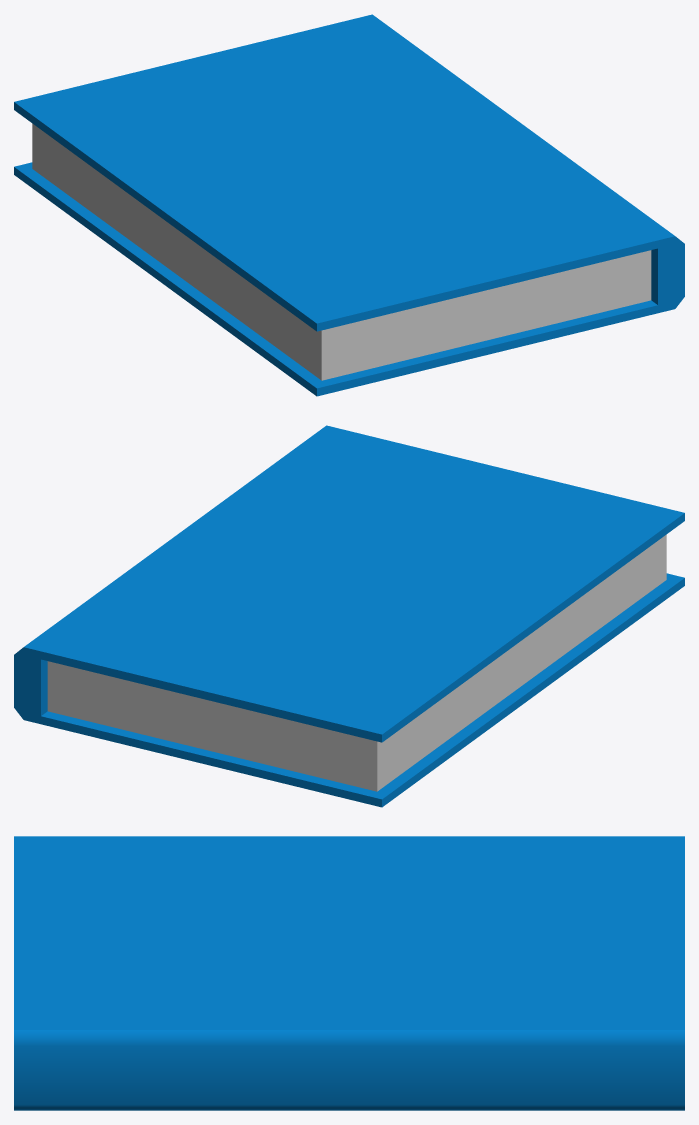
The model's file is Book_Cyan_Blue.fbx.
3 views of the same model, one above another, from view 1: azimuth 30°, elevation 25°; view 2: azimuth 150°, elevation 25°; view 3: azimuth 270°, elevation 25° (orthographic). The views are drawn at different scales.
Parts seen in each view (by area): view 1: Book_Cyan_Blue; view 2: Book_Cyan_Blue; view 3: Book_Cyan_Blue.
Part boxes in pixels (box(x1,y1,x2,y2)): Book_Cyan_Blue: box(14, 14, 684, 396); Book_Cyan_Blue: box(14, 425, 684, 807); Book_Cyan_Blue: box(14, 836, 684, 1110).
Size of the model in its own units: 19.09 by 3.61 by 27.21.
